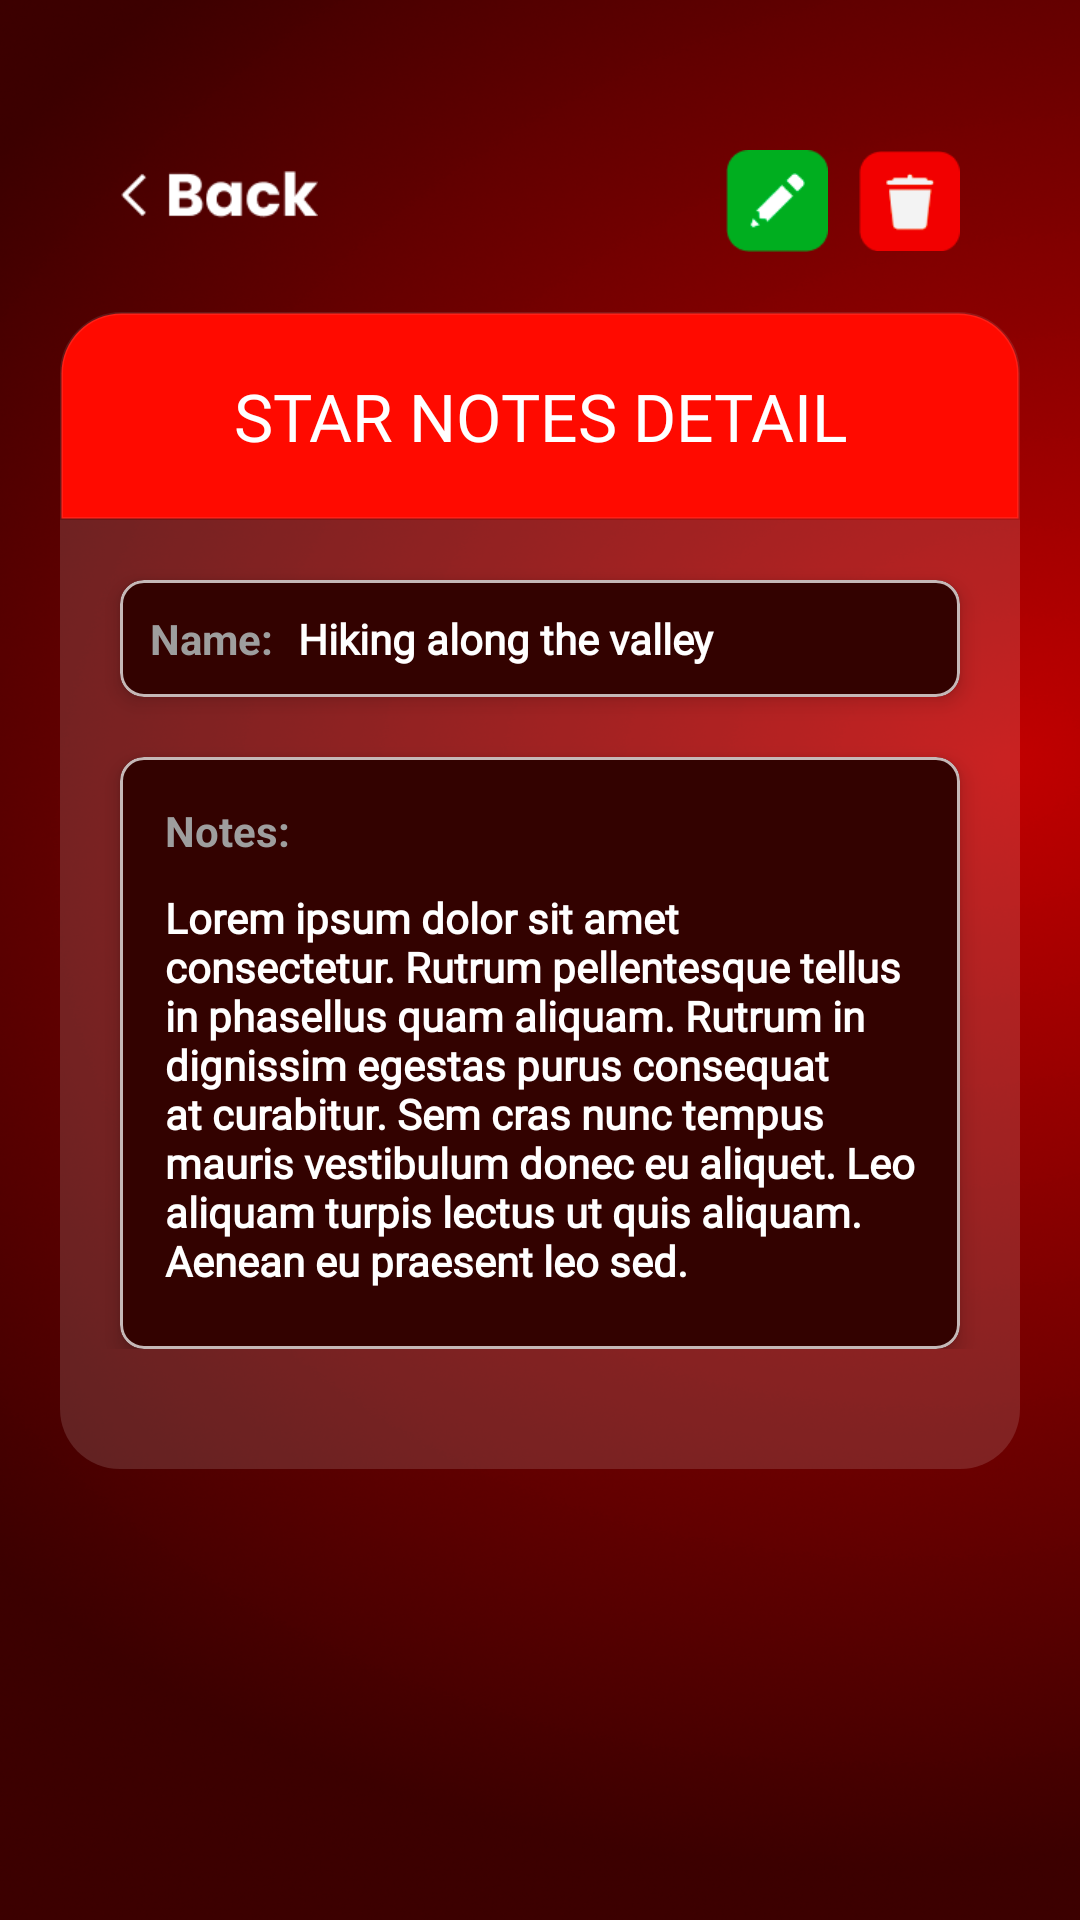

Locate icon controls on the screen. Image size 1080w x 1920h, boxes as BBox(x1, y1, x2, y2).
delete: BBox(859, 151, 960, 251)
edit: BBox(726, 150, 828, 252)
